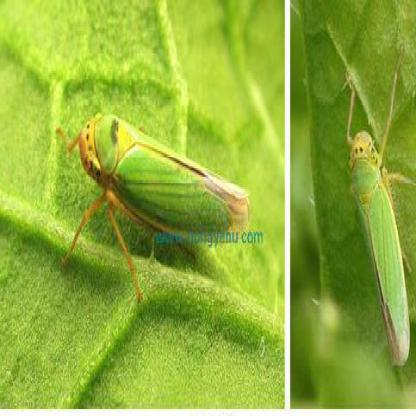Green-Leafhopper: (57, 105, 251, 304), (341, 51, 416, 366)
